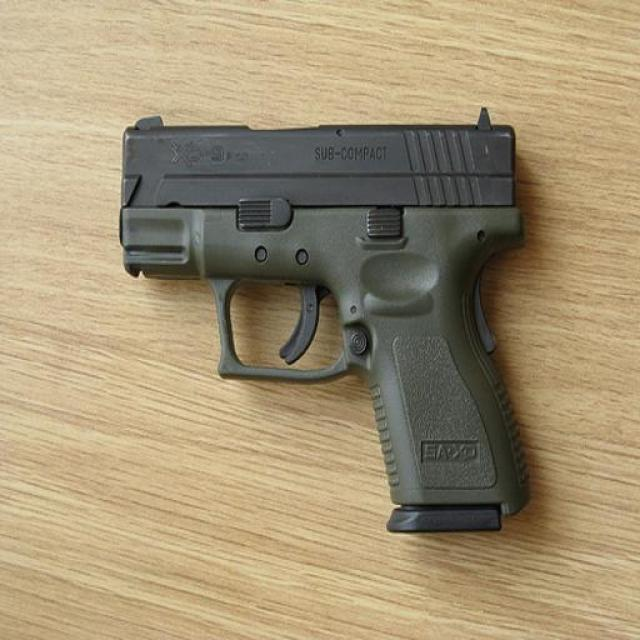pistol: (118, 107, 534, 537)
